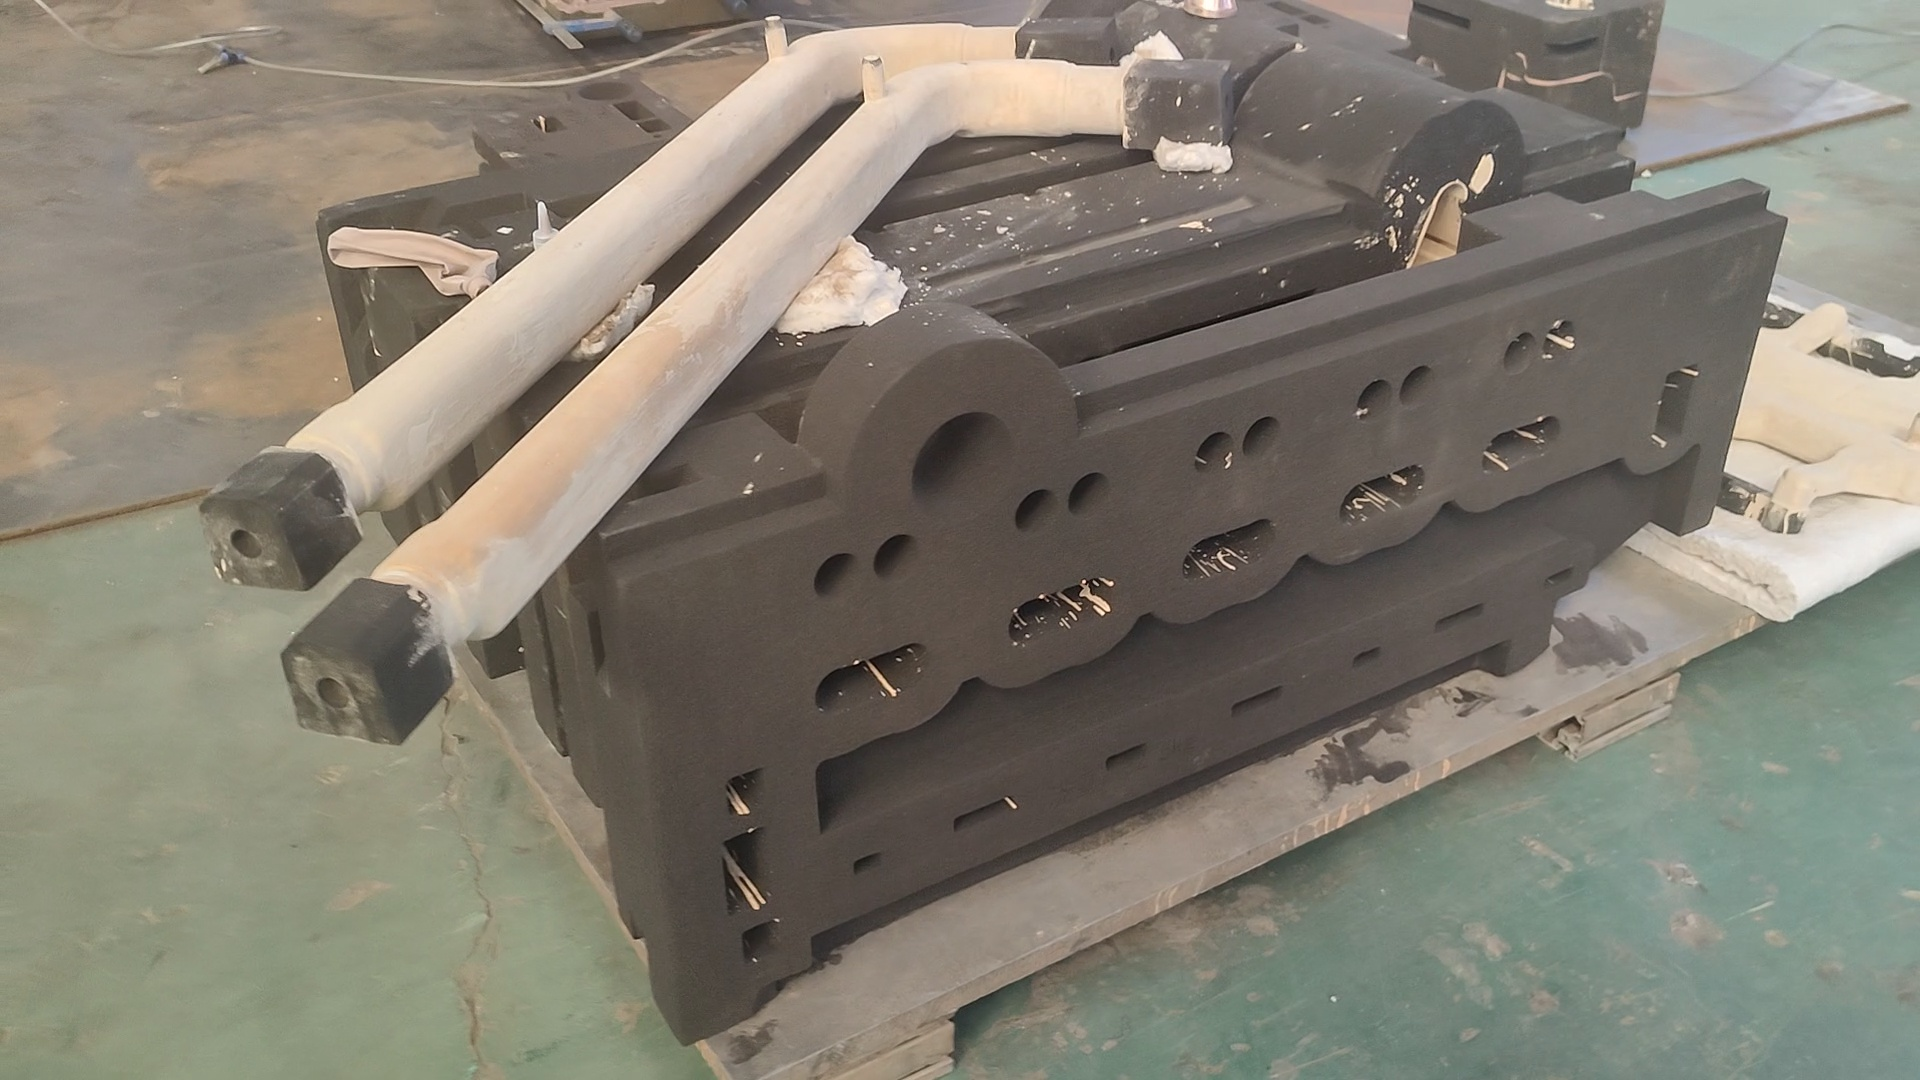pouring hole: (909, 410, 1021, 525), (578, 80, 636, 102)
